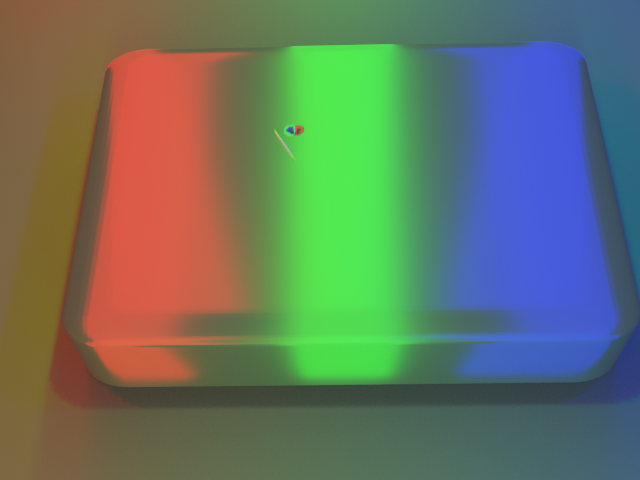dent: (272, 102, 312, 145)
scratch: (200, 90, 357, 177)
